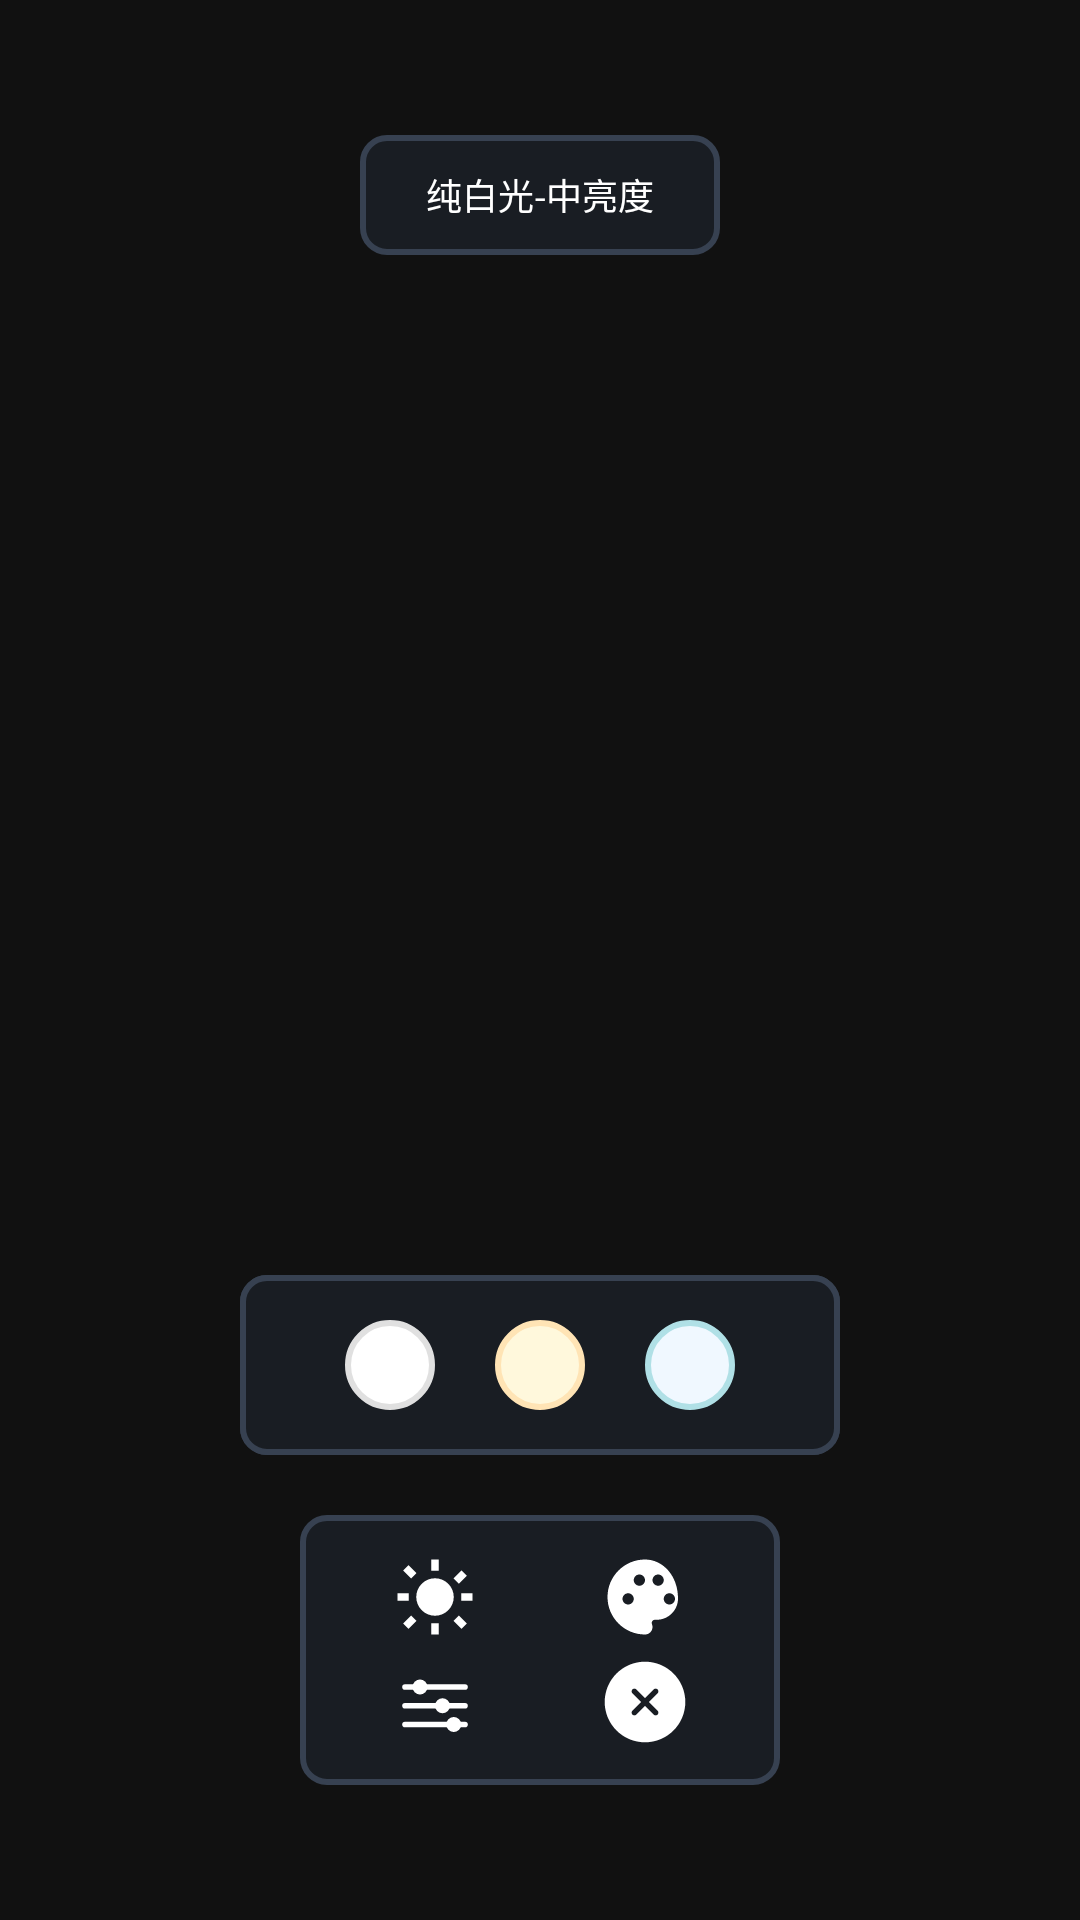

Named icons in this screenshot (1080 × 1920) and their bounding boxes, (x1, y1, x2, y2):
close: (604, 1661, 686, 1743)
